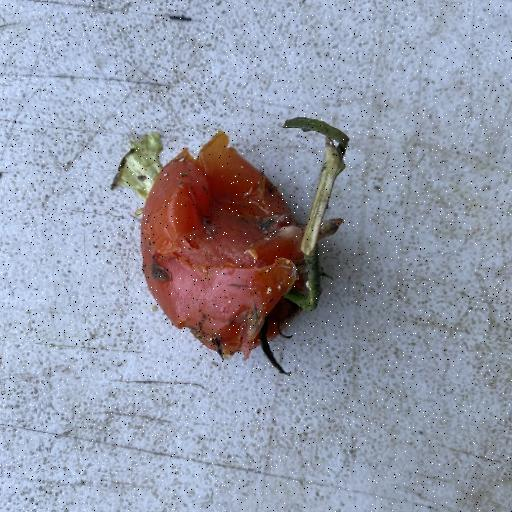Waste: (110, 116, 350, 374)
